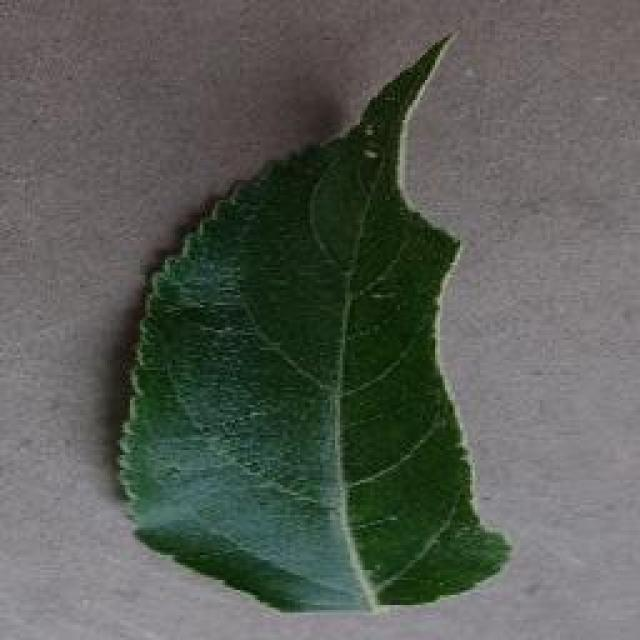apple healthy: (112, 27, 512, 615)
